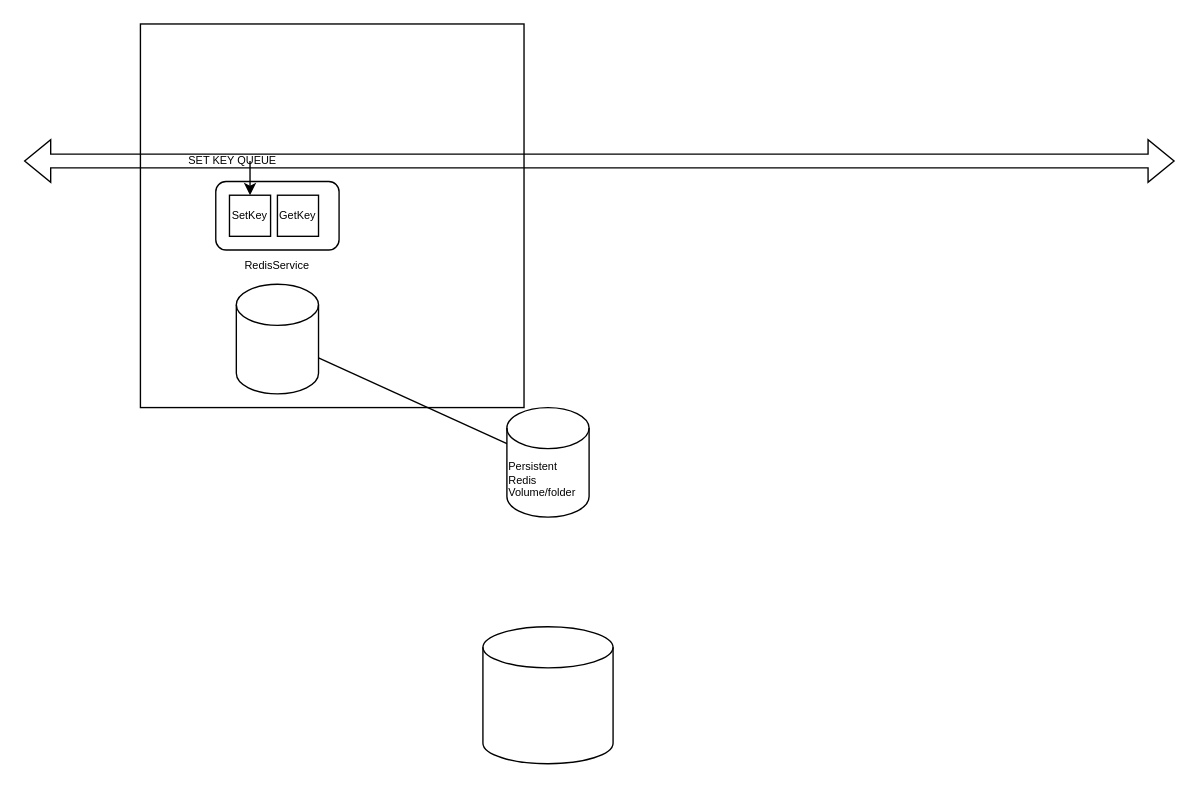
Some shapes in this 1197 by 788 pixel diagram are drawn without their labels. The shapes that lost their labels are listed below. From the top down, each one's centre as x and y in pixels, then its label:
At (x=277, y=338): "Redis-Instance0".
At (x=547, y=694): "DB".
